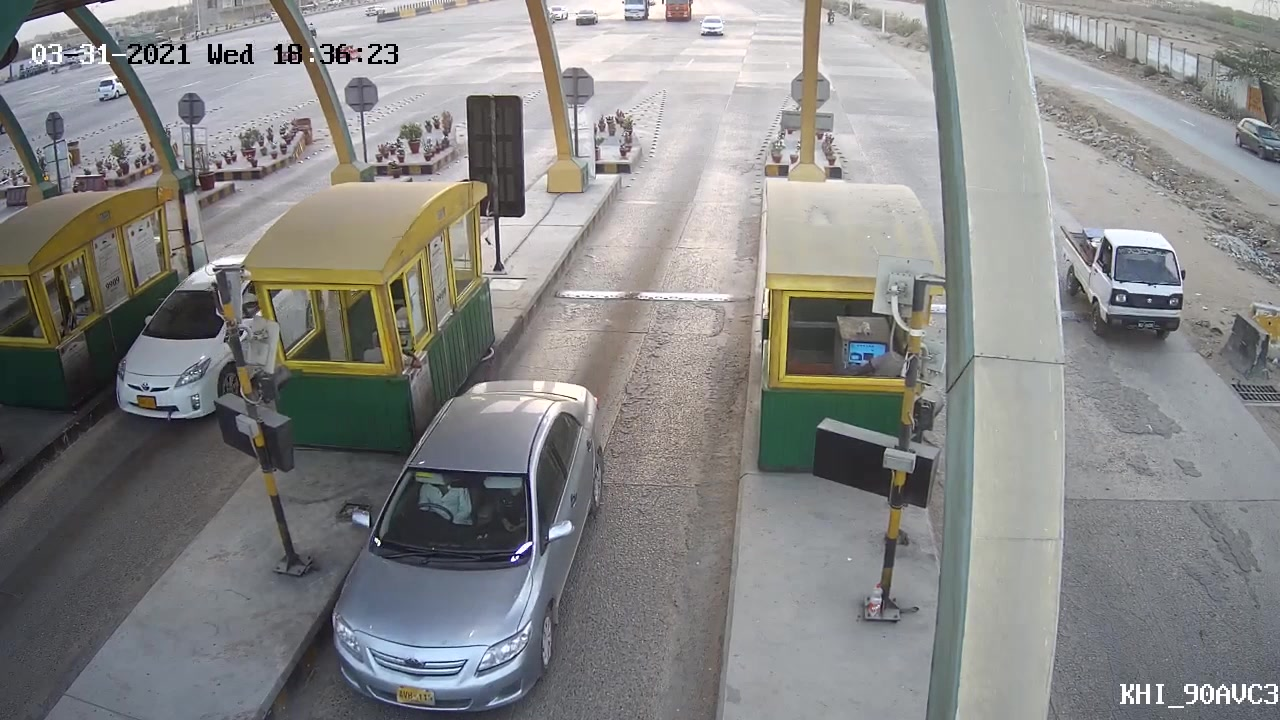F1: (316, 377, 612, 719)
